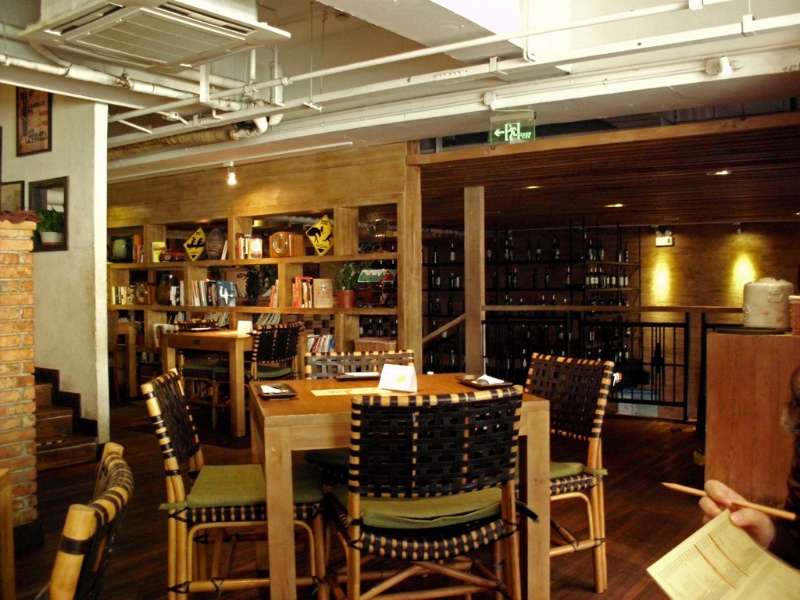wine: (418, 224, 644, 399)
